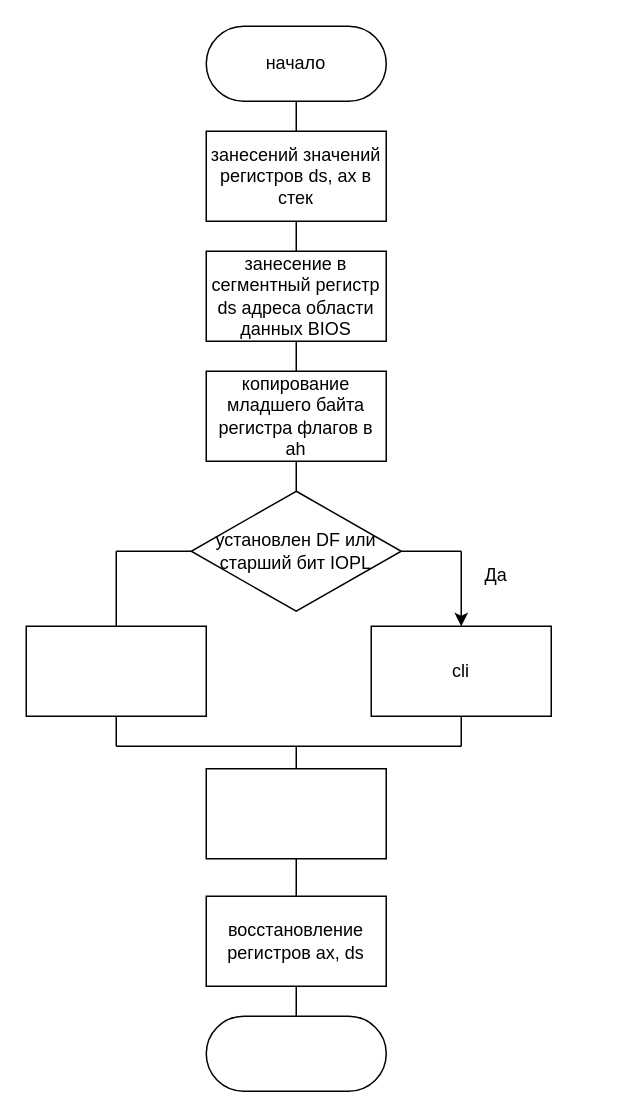
The diagram is 623 pixels wide and 1118 high, and some of its shapes have lost their labels. Each missing label, with the centre of its shape:
запись ah в младший байт регистра флагов: (x=295, y=813)
конец: (x=295, y=1053)
сброс флага IF занулением 9 бита по адресу 0040:0314h: (x=115, y=670)
